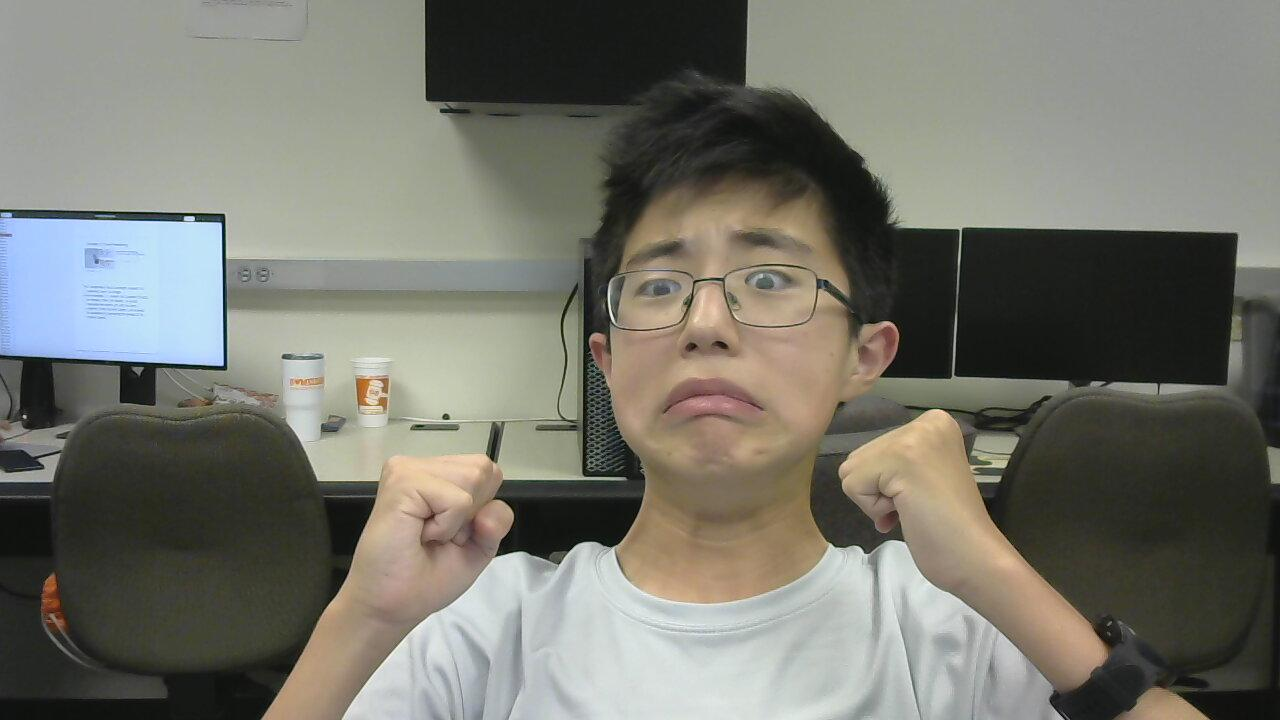fist: (333, 434, 527, 624), (846, 402, 1015, 591)
